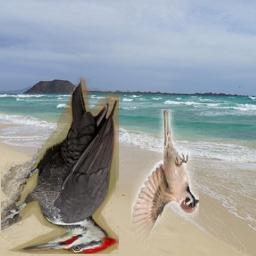Sparrow: (131, 109, 199, 252)
Woodpecker: (1, 77, 119, 254)
